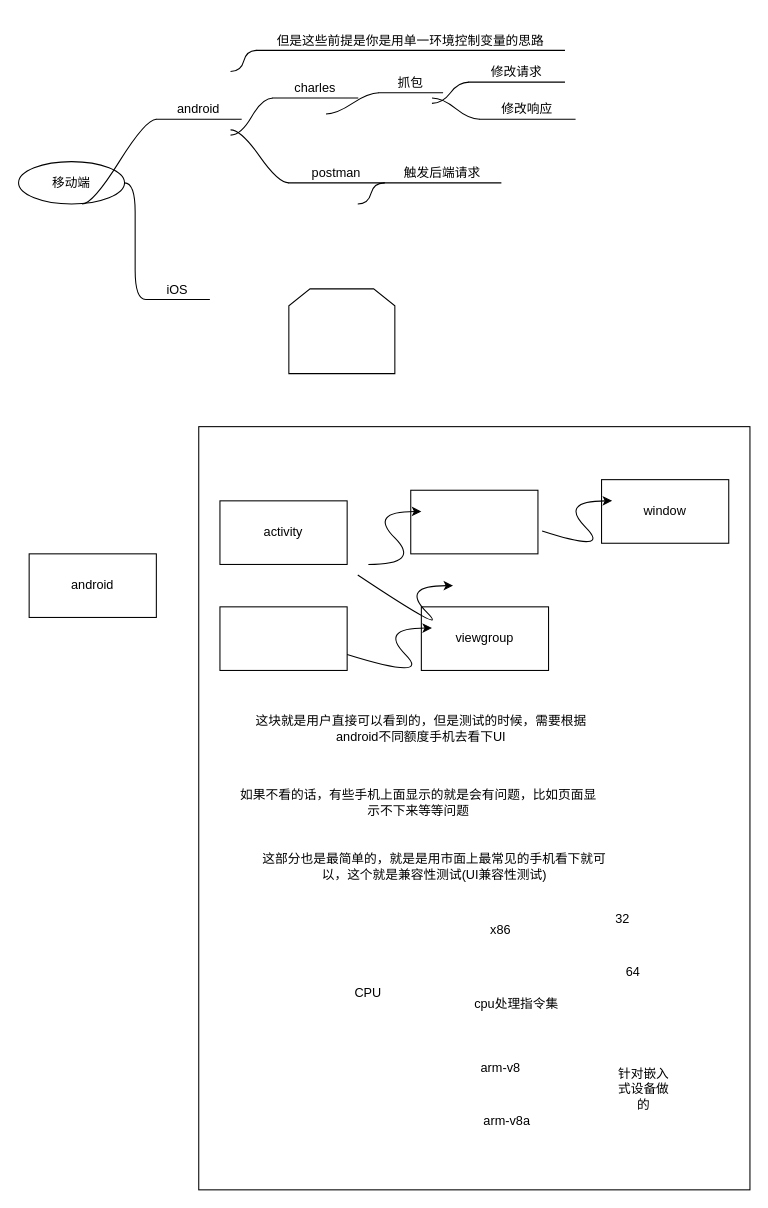
This 768x1208 diagram has some shape labels left out. The shapes that lost their labels are listed below. From the top down, each one's box as (x1, y1, x2, y2) in pixels, then its label:
(288, 288, 395, 374): 上面这些都是网络工具
(410, 489, 538, 554): view
(219, 606, 347, 670): fragment
